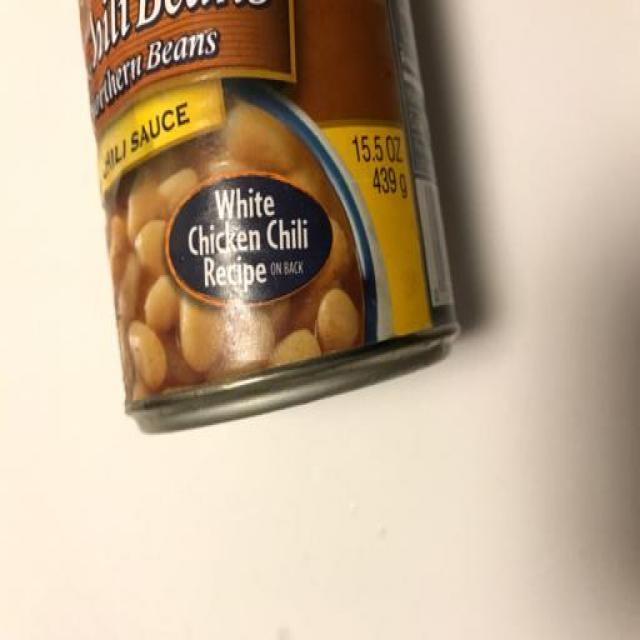metel: (53, 1, 480, 464)
